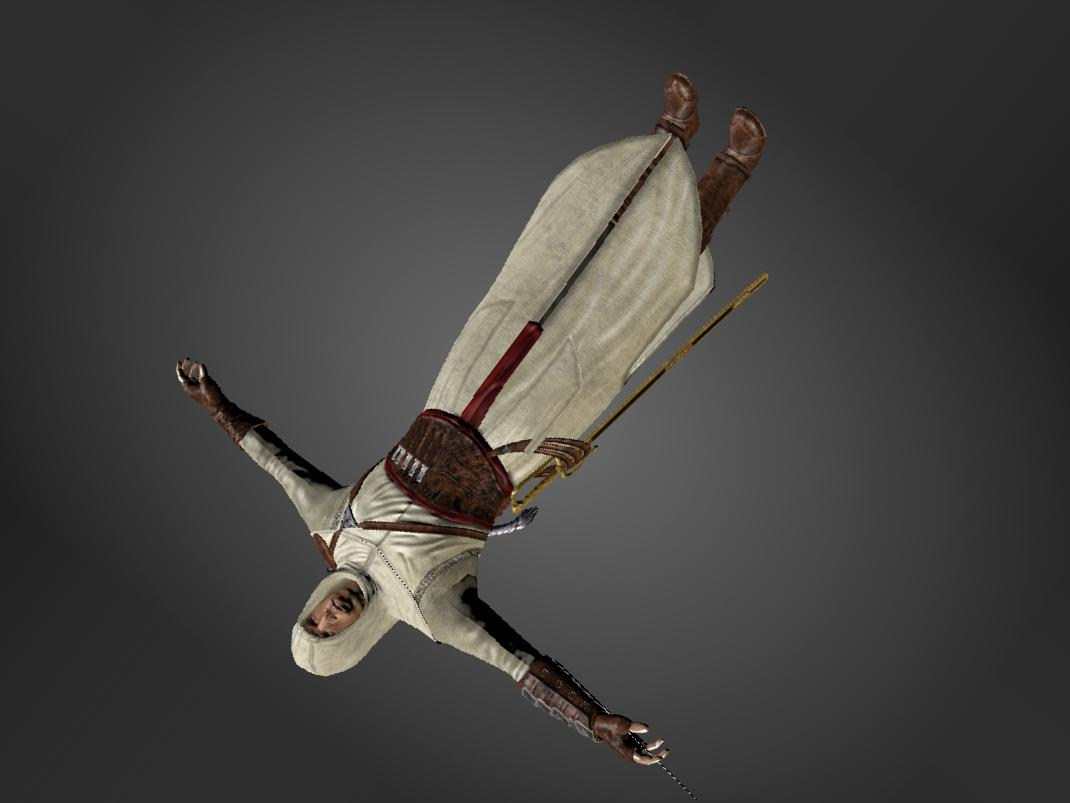clip: (514, 426, 560, 465)
